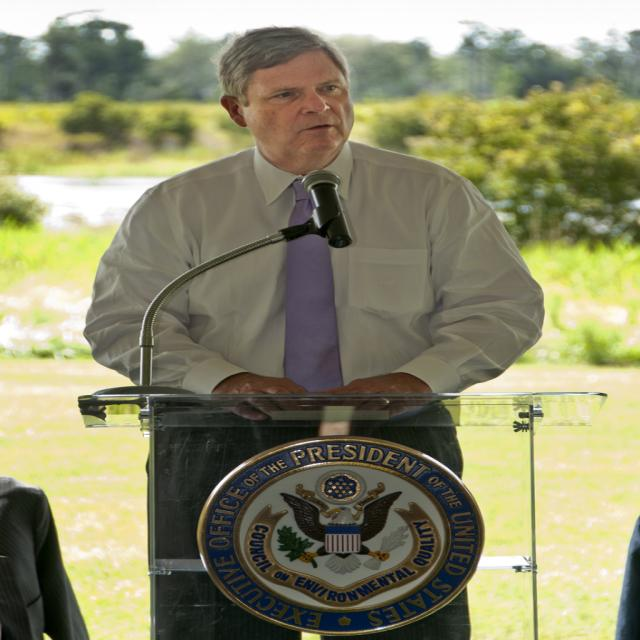no_helmet: (239, 20, 347, 110)
